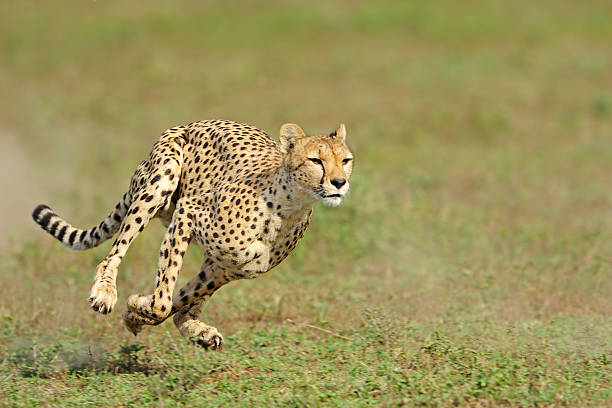cheetah: (270, 116, 360, 211)
